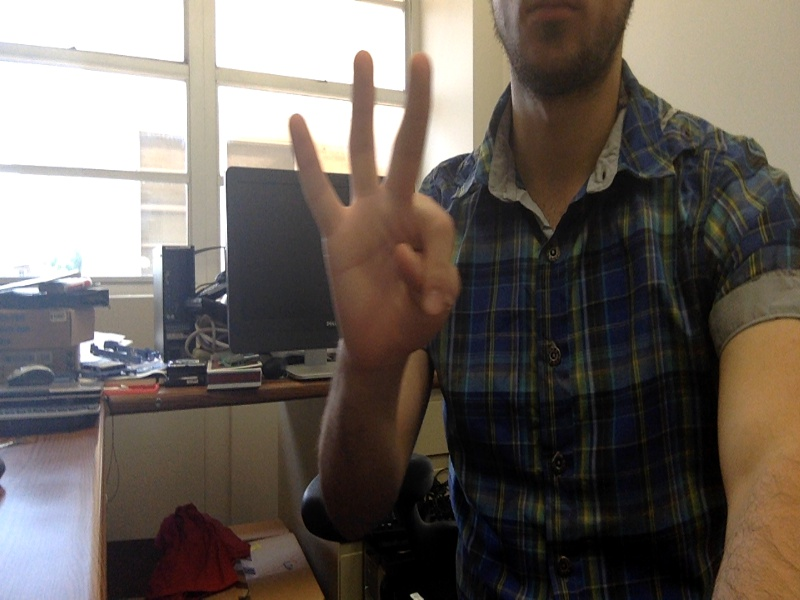3-hand: (289, 49, 461, 364)
